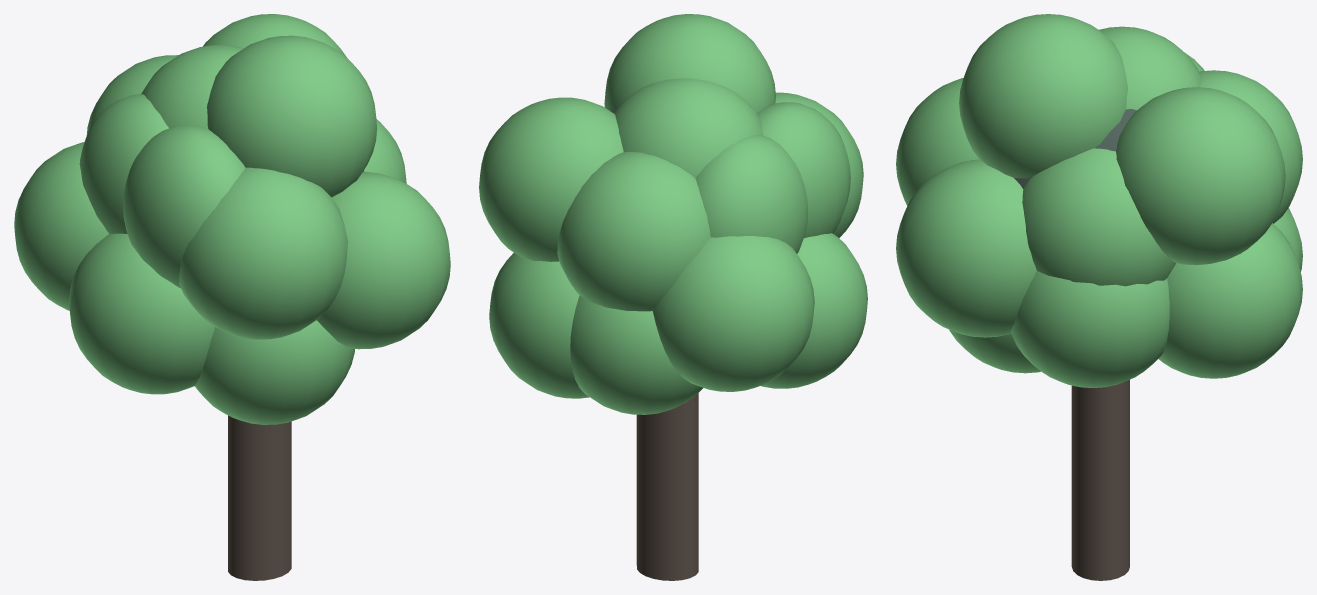
The model's file is TREE2.fbx.
3 views of the same model, side by side, from view 1: azimuth 30°, elevation 25°; view 2: azimuth 150°, elevation 25°; view 3: azimuth 270°, elevation 25° (orthographic). The views are drawn at different scales.
Parts seen in each view (by area): view 1: Tree_Top10, Tree_Top2, Tree_Top12, Tree_Top14, Tree_Top_8, Tree_Top16, Trunck, Tree_Top15, Tree_Top_4, Tree_Top5, Tree_Top9, Tree_Top6 (+1 smaller); view 2: Tree_Top15, Tree_Top6, Tree_Top9, Trunck, Tree_Top2, Tree_Top3, Tree_Top7, Tree_Top5, Tree_Top_4, Tree_Top14, Tree_Top_8, Tree_Top10; view 3: Tree_Top9, Tree_Top2, Tree_Top12, Tree_Top7, Tree_Top11, Tree_Top13, Trunck, Tree_Top10, Tree_Top5, Tree_Top6, Tree_Top16, Tree_Top3 (+1 smaller).
Part boxes in pixels (x1,y1,x2,y2): Tree_Top10: (179, 167, 347, 339); Tree_Top2: (207, 35, 377, 197); Tree_Top12: (317, 172, 450, 349); Tree_Top14: (69, 233, 214, 394); Tree_Top_8: (123, 125, 245, 287); Tree_Top16: (195, 320, 354, 424); Trunck: (228, 415, 291, 580); Tree_Top15: (14, 142, 108, 310); Tree_Top_4: (79, 94, 168, 233); Tree_Top5: (141, 45, 243, 128); Tree_Top9: (203, 14, 346, 57); Tree_Top6: (86, 55, 178, 135); Tree_Top15: (653, 236, 814, 391); Tree_Top6: (557, 151, 710, 311); Tree_Top9: (479, 97, 623, 261); Trunck: (636, 393, 698, 580); Tree_Top2: (604, 14, 775, 113); Tree_Top3: (570, 295, 702, 414); Tree_Top7: (489, 253, 589, 398); Tree_Top5: (614, 78, 762, 178); Tree_Top_4: (695, 134, 808, 253); Tree_Top14: (761, 233, 867, 388); Tree_Top_8: (757, 102, 850, 238); Tree_Top10: (775, 92, 863, 237); Tree_Top9: (1116, 87, 1285, 265); Tree_Top2: (959, 14, 1127, 178); Tree_Top12: (896, 159, 1036, 337); Tree_Top7: (1158, 223, 1302, 378); Tree_Top11: (1022, 148, 1175, 286); Tree_Top13: (1011, 271, 1169, 387); Trunck: (1071, 379, 1129, 580); Tree_Top10: (896, 78, 978, 205); Tree_Top5: (1099, 26, 1201, 110); Tree_Top6: (1199, 70, 1302, 223); Tree_Top16: (949, 330, 1040, 373); Tree_Top3: (1274, 208, 1302, 272).
Size of the model in its own units: 4.32 by 6.75 by 4.56.
